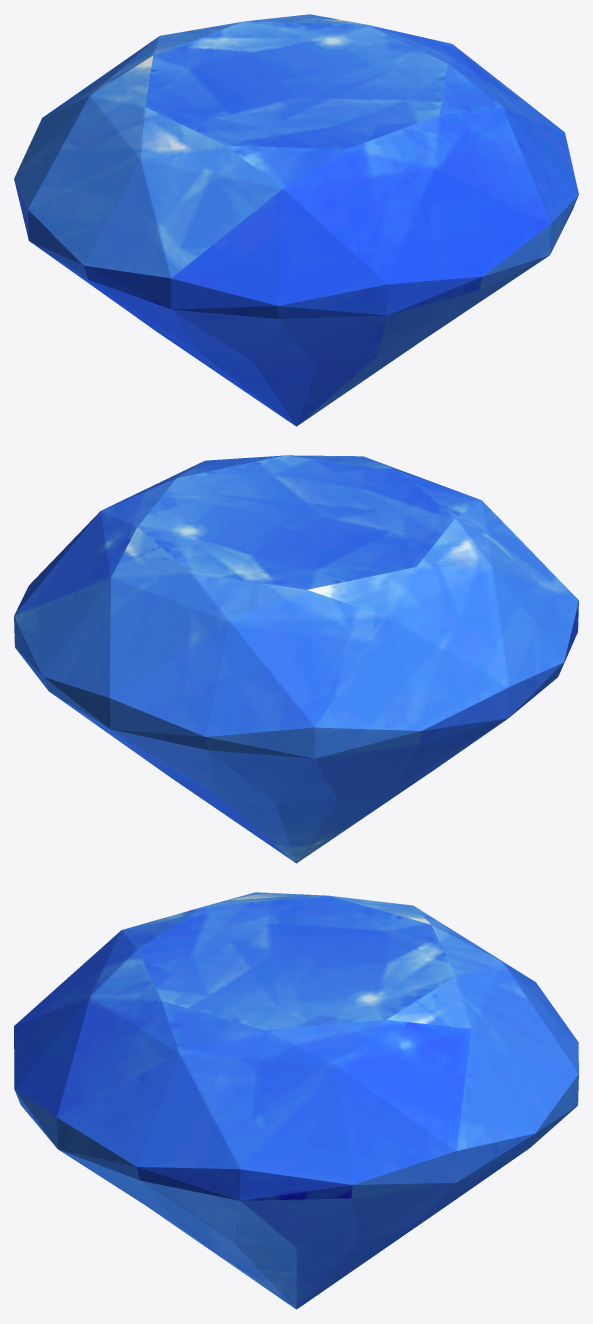
File: Diamante.obj
The picture shows the model from 3 angles, top to bottom: view 1: azimuth 30°, elevation 25°; view 2: azimuth 150°, elevation 25°; view 3: azimuth 270°, elevation 25°; orthographic projection.
Parts seen in each view (by area): view 1: Mesh_0002; view 2: Mesh_0002; view 3: Mesh_0002.
Part boxes in pixels (x1,y1,x2,y2): Mesh_0002: (14, 14, 578, 426); Mesh_0002: (14, 455, 578, 863); Mesh_0002: (14, 892, 578, 1309).
Bounding box in the file's own units: 5.18 × 3.51 × 5.18.
Materials: 1 (1 with a texture image).
